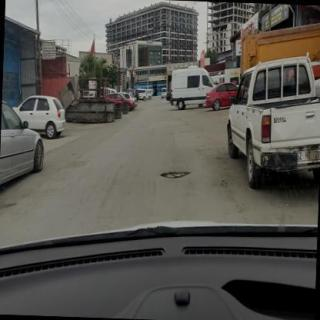pothole: (160, 172, 191, 179)
